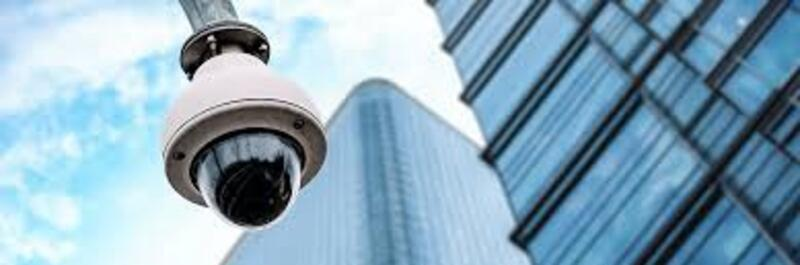dome: (151, 64, 331, 233)
